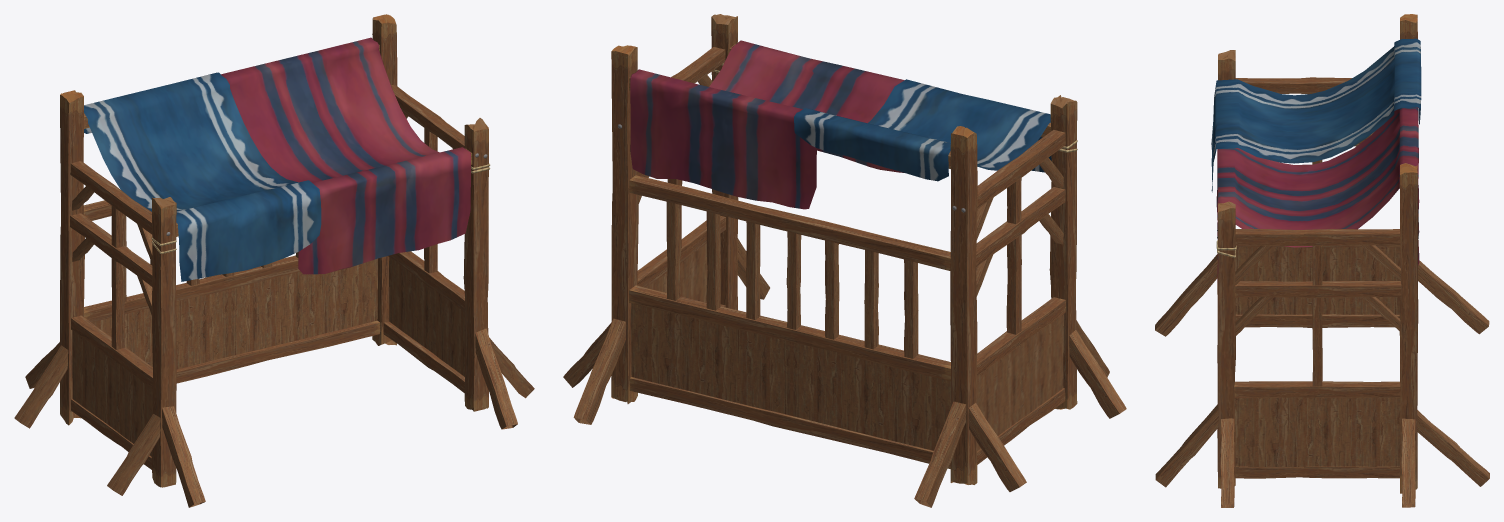
Rendered from SM_Farm_Shed_02.fbx.
The picture shows the model from 3 angles, left to right: view 1: azimuth 30°, elevation 25°; view 2: azimuth 150°, elevation 25°; view 3: azimuth 270°, elevation 25°; orthographic projection. The views are drawn at different scales.
Parts seen in each view (by area): view 1: SM_Farm_Shed_02_LOD0; view 2: SM_Farm_Shed_02_LOD0; view 3: SM_Farm_Shed_02_LOD0.
Boxes of the visible parts, x1,y1,x2,y2 form: SM_Farm_Shed_02_LOD0: [14, 14, 534, 507]; SM_Farm_Shed_02_LOD0: [563, 14, 1126, 507]; SM_Farm_Shed_02_LOD0: [1155, 14, 1489, 507].
Size of what is drawn, in the model's own units: 530 by 392 by 368.
